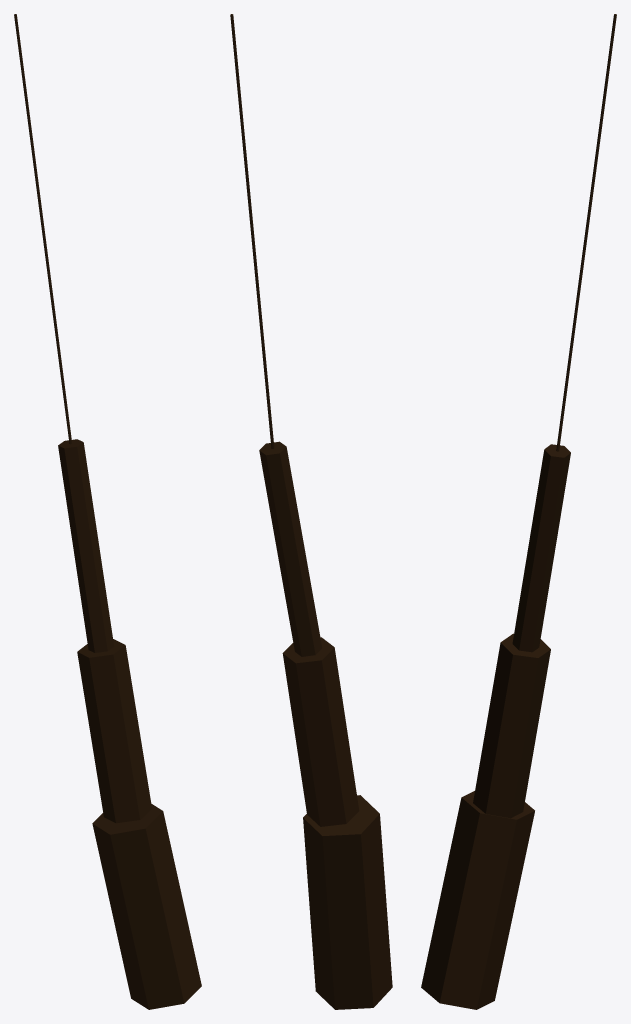
The model's file is tree_536_no_leaf.obj.
The picture shows the model from 3 angles, left to right: view 1: azimuth 90°, elevation 25°; view 2: azimuth 150°, elevation 25°; view 3: azimuth 270°, elevation 25°; orthographic projection. The views are drawn at different scales.
Visible parts, largest first — view 1: TrunkAndBranches; view 2: TrunkAndBranches; view 3: TrunkAndBranches.
Part boxes in pixels (box(x1,y1,x2,y2)): TrunkAndBranches: box(14, 14, 201, 1009); TrunkAndBranches: box(230, 14, 392, 1009); TrunkAndBranches: box(421, 14, 616, 1009).
Size of the model in its own units: 0.1514 by 1.87 by 0.3297.
